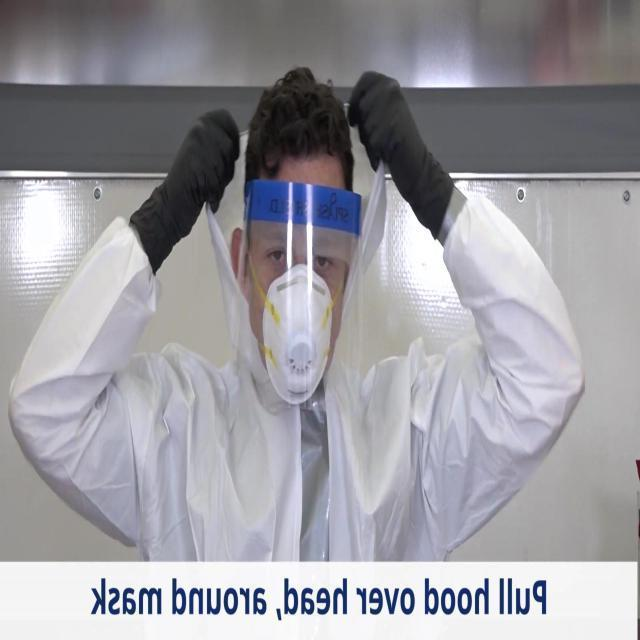gloves: (347, 70, 455, 242), (132, 104, 242, 270)
